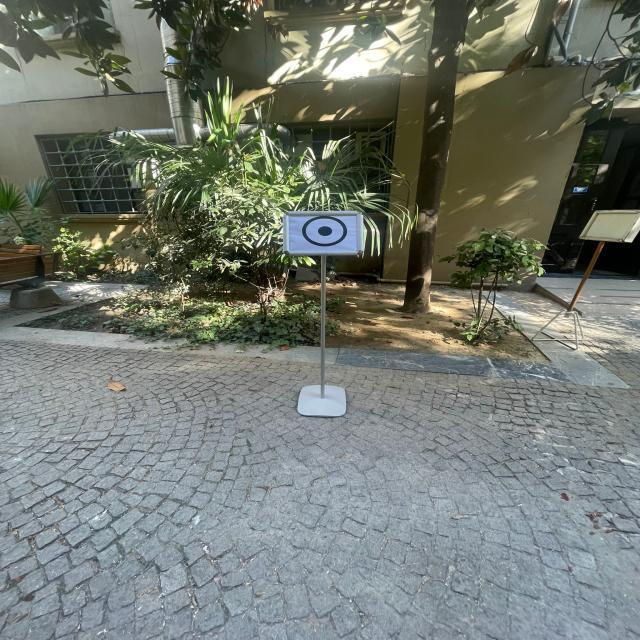Target: (274, 199, 370, 263)
inner: (313, 222, 338, 240)
